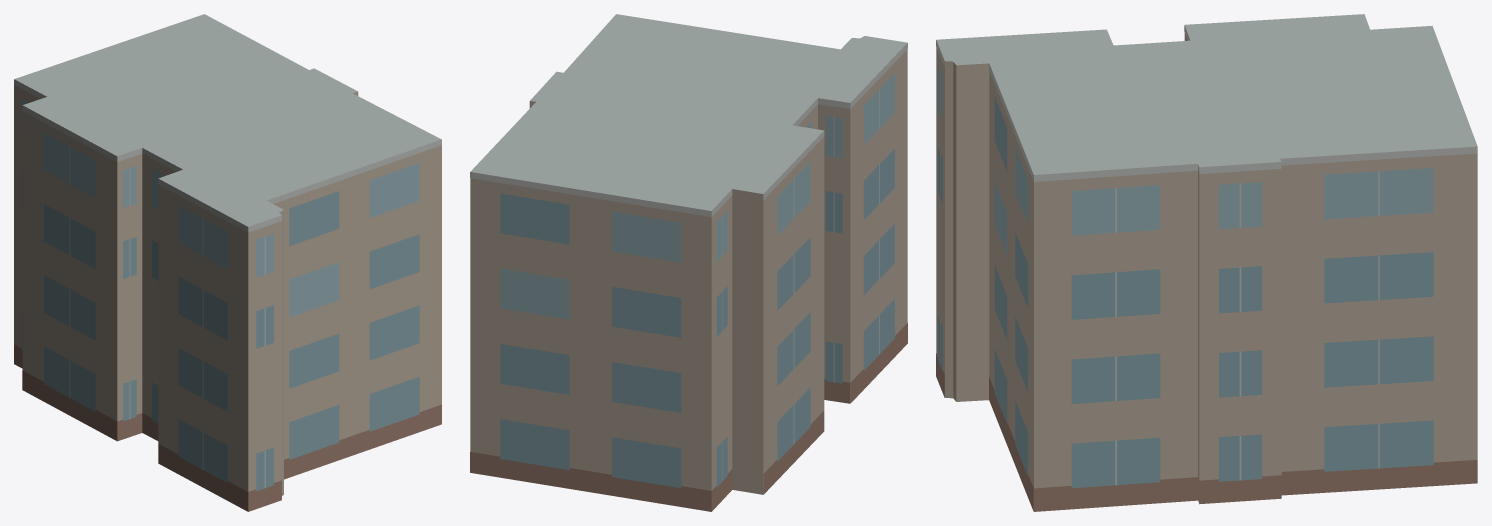
The model's file is survey-upis-33016501.glb.
3 views of the same model, side by side, from view 1: azimuth 30°, elevation 25°; view 2: azimuth 150°, elevation 25°; view 3: azimuth 270°, elevation 25° (orthographic). The views are drawn at different scales.
Visible parts, largest first — view 1: survey-upis-33016501.tmp; view 2: survey-upis-33016501.tmp; view 3: survey-upis-33016501.tmp.
Part boxes in pixels (left/top/right/bottom): survey-upis-33016501.tmp: left=14, top=14, right=441, bottom=511; survey-upis-33016501.tmp: left=470, top=14, right=907, bottom=511; survey-upis-33016501.tmp: left=936, top=14, right=1477, bottom=511.
Size of the model in its own units: 12.3 by 11.98 by 17.47.
